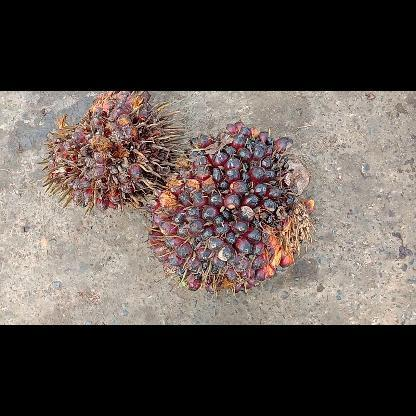Kurang masak: (143, 120, 315, 296)
TBS masak: (37, 90, 185, 214)
